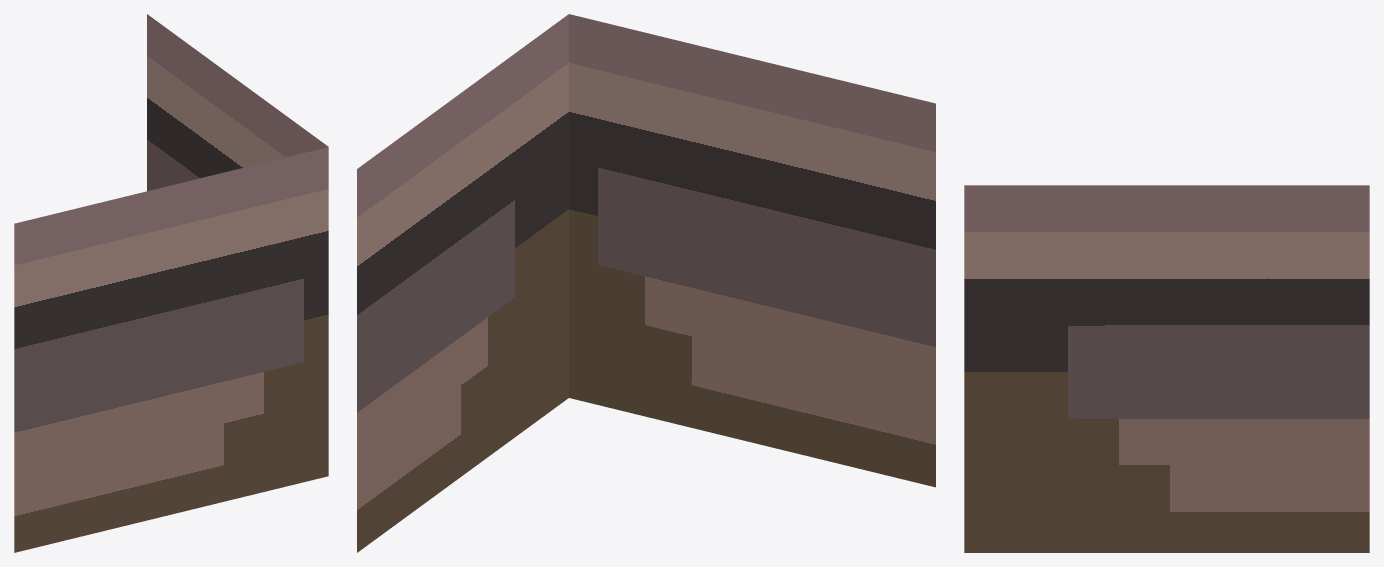
3 renders of one model, left to right at view 1: azimuth 30°, elevation 25°; view 2: azimuth 150°, elevation 25°; view 3: azimuth 270°, elevation 25°, orthographic. The views are drawn at different scales.
Size of the model in its own units: 0.5 by 0.5 by 0.5.
Materials: 1 (1 with a texture image).
